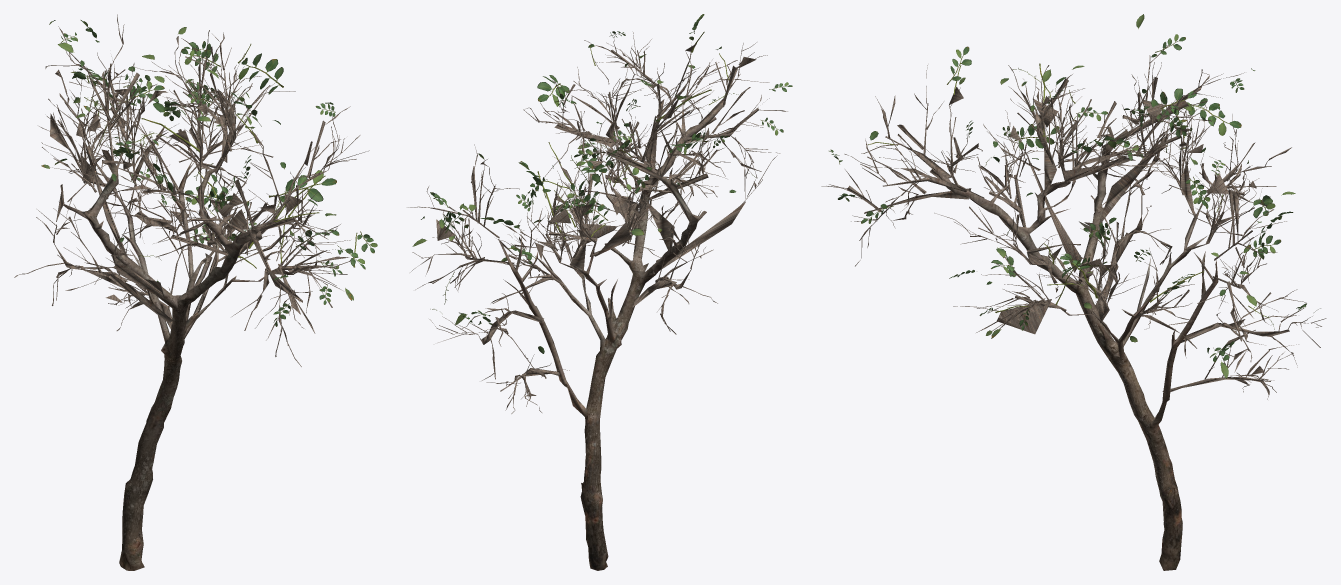
The model's file is tree_small_02.glb.
3 renders of one model, left to right at view 1: azimuth 30°, elevation 25°; view 2: azimuth 150°, elevation 25°; view 3: azimuth 270°, elevation 25°, orthographic. The views are drawn at different scales.
Visible parts, largest first — view 1: tree_small_02_LOD0.001, tree_small_02_LOD0, tree_small_02_LOD0.002; view 2: tree_small_02_LOD0.001, tree_small_02_LOD0, tree_small_02_LOD0.002; view 3: tree_small_02_LOD0.001, tree_small_02_LOD0, tree_small_02_LOD0.002.
Boxes of the visible parts, left/top/right/bottom form: tree_small_02_LOD0.001: left=14, top=14, right=369, bottom=366; tree_small_02_LOD0: left=63, top=149, right=283, bottom=570; tree_small_02_LOD0.002: left=41, top=20, right=377, bottom=326; tree_small_02_LOD0.001: left=407, top=32, right=787, bottom=413; tree_small_02_LOD0: left=498, top=117, right=716, bottom=570; tree_small_02_LOD0.002: left=412, top=14, right=792, bottom=353; tree_small_02_LOD0.001: left=821, top=45, right=1326, bottom=399; tree_small_02_LOD0: left=930, top=126, right=1218, bottom=570; tree_small_02_LOD0.002: left=829, top=14, right=1320, bottom=378.
Size of the model in its own units: 2.61 by 4.57 by 4.06.
Materials: 3 (3 with a texture image).
